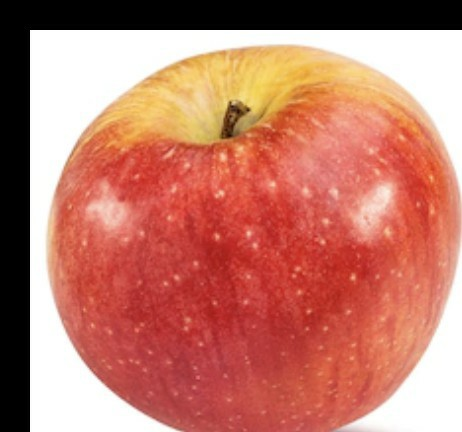normal_apple: (48, 41, 455, 430)
